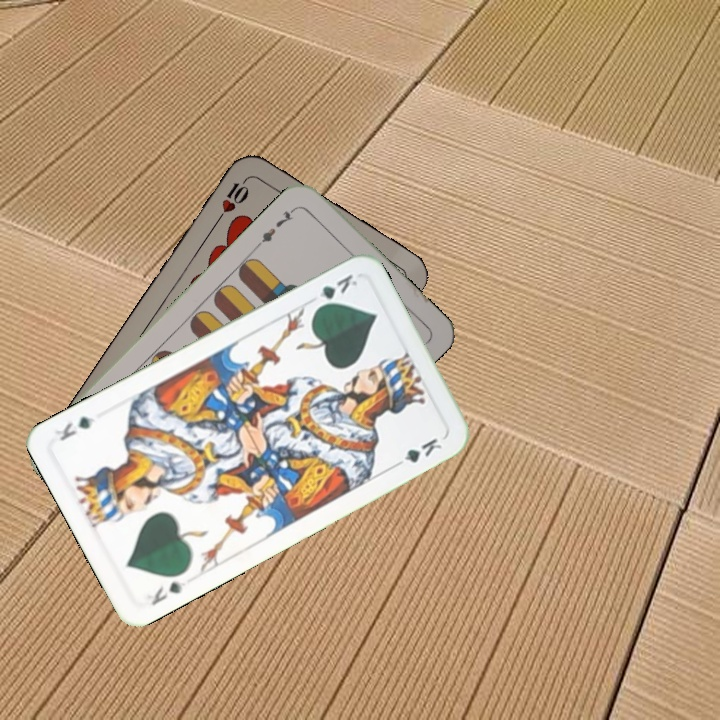E7: (253, 202, 300, 249)
GK: (310, 270, 360, 313), (142, 577, 188, 608)
H10: (213, 172, 254, 224)
